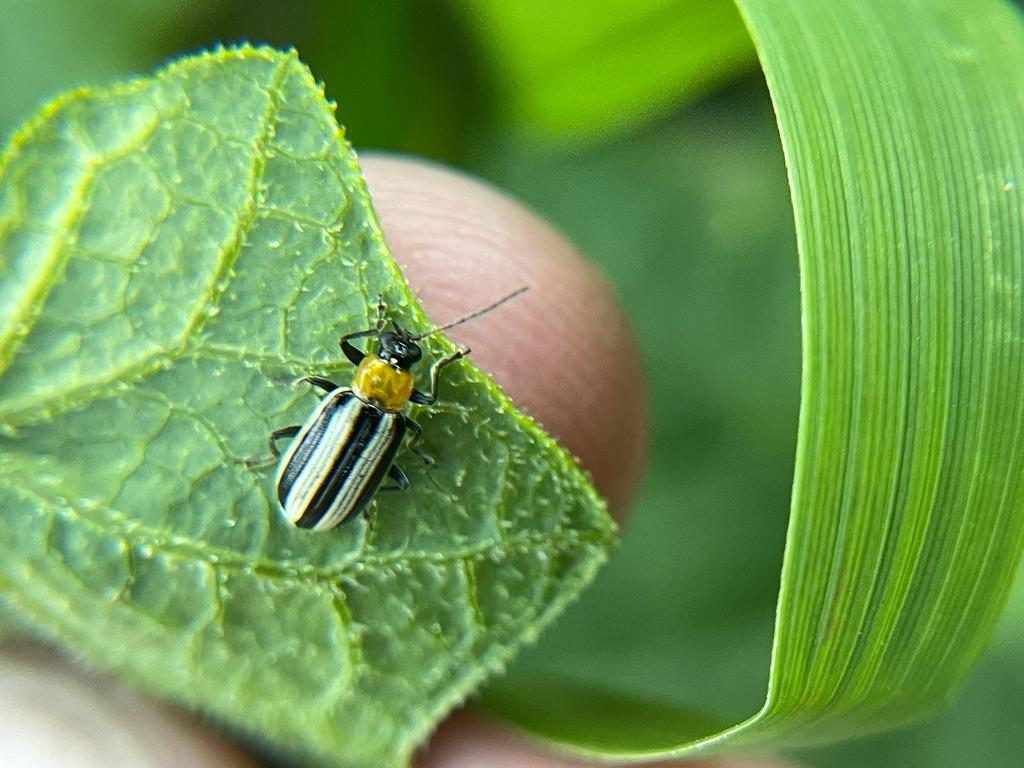potato_beetle: (199, 244, 542, 611)
